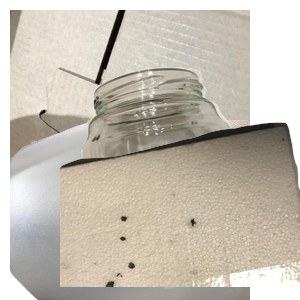cardboard: (10, 10, 250, 190)
glass: (74, 65, 300, 245)
plastic: (10, 120, 250, 300)
trash: (60, 120, 300, 300)
